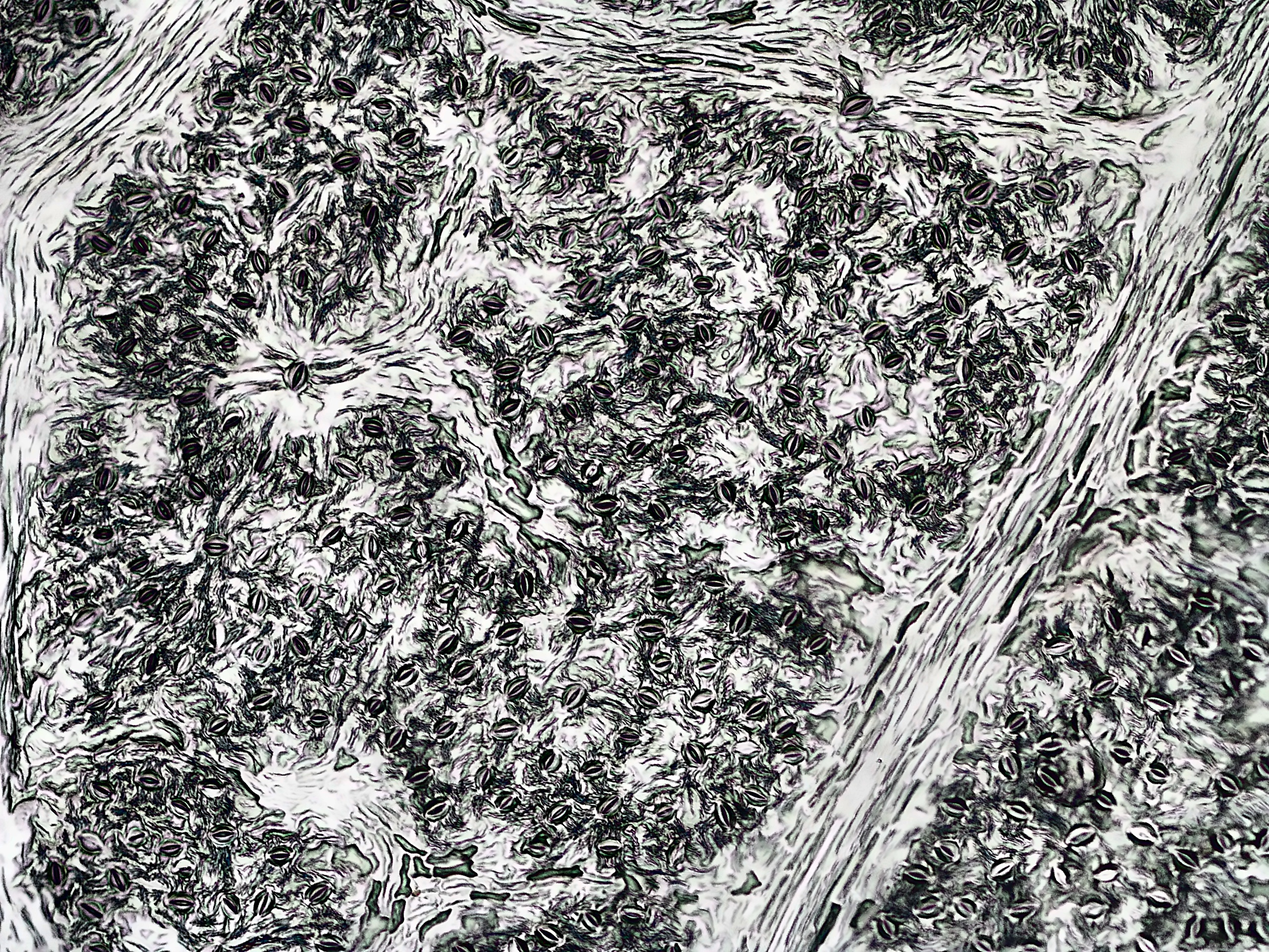stomata: (1125, 820, 1160, 848), (837, 89, 872, 116), (1170, 845, 1205, 872), (1145, 883, 1181, 908), (389, 662, 419, 691), (1180, 25, 1210, 54), (740, 694, 770, 722), (1059, 245, 1089, 273), (1042, 632, 1078, 655), (1063, 823, 1097, 847), (69, 604, 100, 630), (1035, 764, 1061, 795), (283, 360, 308, 392), (740, 136, 764, 169), (508, 72, 535, 101), (575, 274, 602, 303), (792, 182, 819, 211), (1031, 178, 1062, 203), (780, 429, 807, 457), (317, 523, 346, 549), (560, 681, 586, 710), (999, 238, 1028, 264), (776, 380, 806, 405), (674, 125, 708, 147), (1000, 802, 1037, 822), (384, 504, 419, 525), (822, 438, 849, 465), (995, 755, 1023, 781), (1111, 41, 1136, 70), (619, 310, 649, 334), (515, 566, 535, 602), (911, 897, 945, 918), (331, 457, 362, 480), (1036, 732, 1067, 755), (296, 581, 318, 613), (904, 494, 931, 520), (587, 496, 622, 516), (755, 302, 780, 330), (1109, 739, 1137, 764), (933, 838, 961, 863), (566, 611, 595, 635), (1243, 637, 1267, 666), (690, 272, 720, 295), (1088, 675, 1118, 698), (520, 836, 551, 858), (1101, 600, 1123, 631), (504, 672, 529, 699), (635, 245, 664, 268), (405, 766, 434, 789), (244, 543, 274, 565), (956, 353, 976, 386), (827, 291, 849, 321), (1143, 690, 1173, 712), (941, 799, 972, 820), (966, 179, 992, 204), (728, 608, 752, 635), (741, 781, 768, 805), (1218, 313, 1252, 332), (683, 740, 706, 768), (663, 834, 686, 862), (635, 619, 667, 639), (381, 722, 403, 751), (1167, 645, 1196, 667), (579, 761, 609, 782), (37, 474, 62, 499), (445, 517, 469, 543), (450, 661, 476, 685), (199, 223, 222, 250), (312, 5, 332, 36), (492, 357, 523, 377), (302, 881, 330, 903), (491, 716, 519, 738), (379, 45, 408, 66), (332, 150, 361, 171), (489, 217, 518, 238), (1092, 862, 1121, 883), (417, 27, 440, 53), (854, 405, 877, 431), (122, 191, 155, 209), (253, 888, 272, 919), (198, 536, 229, 555), (321, 270, 342, 298), (1190, 591, 1218, 612), (267, 844, 296, 864), (421, 800, 450, 820), (648, 577, 677, 597), (1138, 932, 1167, 952), (892, 15, 916, 39), (943, 291, 967, 315), (655, 194, 678, 219), (692, 690, 717, 713), (781, 742, 804, 767), (532, 325, 554, 351), (730, 396, 752, 422), (1137, 618, 1156, 648), (536, 924, 564, 944), (134, 773, 165, 791), (599, 217, 623, 240), (440, 456, 464, 479), (538, 748, 562, 771), (498, 621, 521, 645), (600, 793, 624, 816), (963, 212, 987, 235), (1197, 621, 1216, 650), (89, 778, 114, 800), (436, 633, 461, 655), (635, 686, 660, 708), (173, 600, 194, 626), (359, 533, 380, 559), (774, 715, 800, 736), (895, 457, 921, 478), (1076, 899, 1110, 915), (903, 864, 930, 884), (210, 826, 238, 845), (1217, 770, 1240, 793), (1092, 788, 1116, 810), (537, 450, 558, 475), (617, 726, 642, 747), (716, 801, 734, 830), (182, 272, 208, 292), (79, 903, 106, 922), (1069, 44, 1088, 71), (784, 602, 803, 629), (389, 452, 419, 469), (109, 869, 131, 892), (585, 557, 608, 579), (875, 916, 897, 939), (990, 857, 1012, 880), (282, 115, 310, 133), (501, 145, 522, 169), (474, 766, 495, 790), (499, 399, 523, 420), (1070, 708, 1091, 732), (1211, 830, 1235, 851), (411, 537, 431, 562), (932, 224, 952, 249), (862, 323, 893, 339), (540, 137, 566, 156), (1034, 24, 1060, 43), (3, 62, 20, 91), (209, 90, 238, 107), (176, 387, 205, 404), (248, 587, 265, 616), (955, 896, 977, 918), (172, 653, 193, 676), (220, 893, 241, 916), (548, 803, 571, 824), (436, 579, 459, 600), (649, 498, 670, 521), (703, 573, 726, 594), (809, 632, 830, 655), (971, 319, 994, 340), (1209, 446, 1230, 469), (332, 77, 356, 97), (981, 413, 1005, 433), (84, 695, 112, 712), (198, 781, 226, 798), (168, 895, 196, 912), (258, 81, 277, 106), (361, 203, 380, 228), (851, 173, 876, 192), (924, 324, 949, 343), (297, 471, 315, 497), (787, 135, 813, 153), (729, 222, 747, 248), (619, 904, 645, 922), (1005, 358, 1023, 384), (764, 481, 782, 507), (256, 446, 272, 475), (1007, 901, 1036, 917), (448, 75, 470, 96), (363, 694, 385, 715), (433, 715, 454, 737), (869, 3, 892, 23), (592, 381, 615, 401), (138, 292, 162, 311), (207, 624, 226, 648), (206, 715, 230, 734), (481, 294, 505, 313), (581, 458, 600, 482), (1145, 764, 1169, 783), (597, 837, 622, 855), (1188, 482, 1218, 497), (78, 834, 104, 851), (447, 325, 473, 342), (929, 148, 946, 174), (883, 350, 904, 371), (289, 635, 309, 657), (322, 664, 342, 686), (1063, 302, 1085, 322), (91, 526, 114, 545), (376, 576, 399, 595), (1030, 338, 1053, 357), (174, 324, 203, 339), (142, 650, 158, 677), (344, 619, 362, 643), (857, 476, 875, 500), (948, 444, 973, 461), (394, 127, 415, 147), (497, 790, 517, 811), (1004, 712, 1026, 731), (140, 359, 166, 375), (96, 466, 114, 489), (1051, 862, 1069, 885), (263, 0, 287, 17), (505, 935, 529, 952), (169, 861, 198, 875), (254, 36, 273, 57), (234, 290, 255, 309), (652, 652, 673, 671), (154, 499, 172, 521), (1205, 0, 1233, 14), (243, 208, 260, 231), (361, 419, 384, 436), (696, 658, 719, 675), (814, 511, 831, 534), (1229, 395, 1255, 410), (396, 177, 416, 196), (187, 480, 206, 500), (775, 523, 795, 542), (34, 0, 52, 21), (75, 15, 93, 36), (173, 195, 194, 213), (115, 337, 136, 355), (288, 66, 313, 81), (317, 935, 342, 950), (1167, 446, 1192, 461), (698, 322, 715, 344), (77, 427, 100, 443), (630, 435, 646, 458), (253, 250, 267, 276), (971, 938, 997, 952), (139, 585, 158, 604), (561, 230, 580, 249), (61, 504, 79, 524), (171, 797, 189, 817), (939, 0, 957, 20), (975, 0, 1005, 12), (561, 399, 579, 419), (653, 803, 673, 821), (941, 403, 965, 418), (373, 99, 394, 116), (477, 569, 494, 590), (587, 143, 609, 159), (667, 445, 689, 461), (272, 179, 290, 198), (795, 335, 815, 352), (90, 234, 111, 250), (129, 557, 150, 573), (863, 254, 884, 270), (582, 910, 598, 931), (305, 223, 320, 245), (775, 255, 790, 277), (641, 362, 663, 377), (203, 151, 220, 170), (48, 863, 65, 882), (310, 710, 329, 727), (700, 173, 723, 187), (720, 481, 734, 504), (1254, 350, 1268, 373), (1009, 19, 1024, 40), (1104, 0, 1125, 15), (67, 584, 91, 597), (159, 840, 181, 854), (219, 336, 237, 353), (391, 0, 410, 16), (253, 691, 272, 707), (810, 243, 829, 259), (119, 495, 139, 510), (182, 441, 202, 456), (294, 267, 307, 290), (220, 413, 243, 426), (286, 438, 303, 455), (133, 236, 149, 254), (220, 462, 235, 481), (250, 646, 267, 662), (127, 827, 144, 843), (4, 3, 19, 21), (253, 144, 267, 163), (1259, 428, 1269, 453), (662, 336, 679, 350), (343, 0, 360, 13), (1259, 759, 1269, 779), (452, 943, 474, 952)
